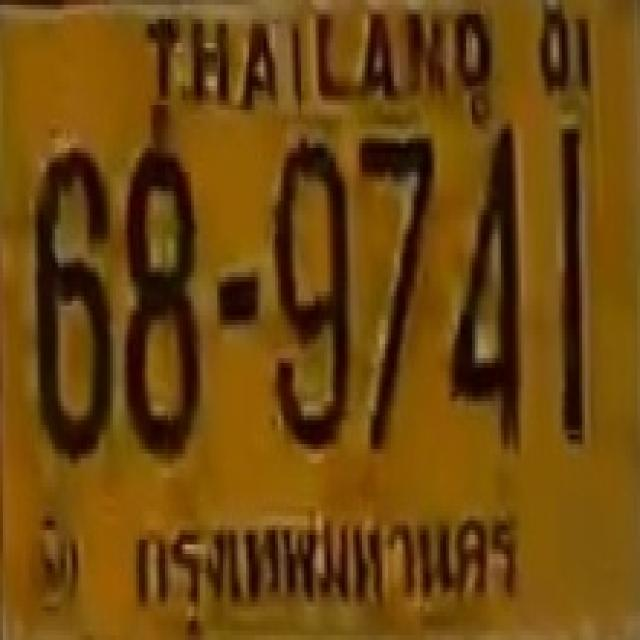0: (272, 139, 348, 444)
1: (559, 117, 582, 442), (559, 122, 582, 427)
4: (449, 122, 518, 442)
6: (31, 143, 108, 454)
7: (356, 134, 432, 444)
8: (123, 141, 196, 451)
9: (271, 139, 349, 444)
BKK: (127, 500, 530, 624)
